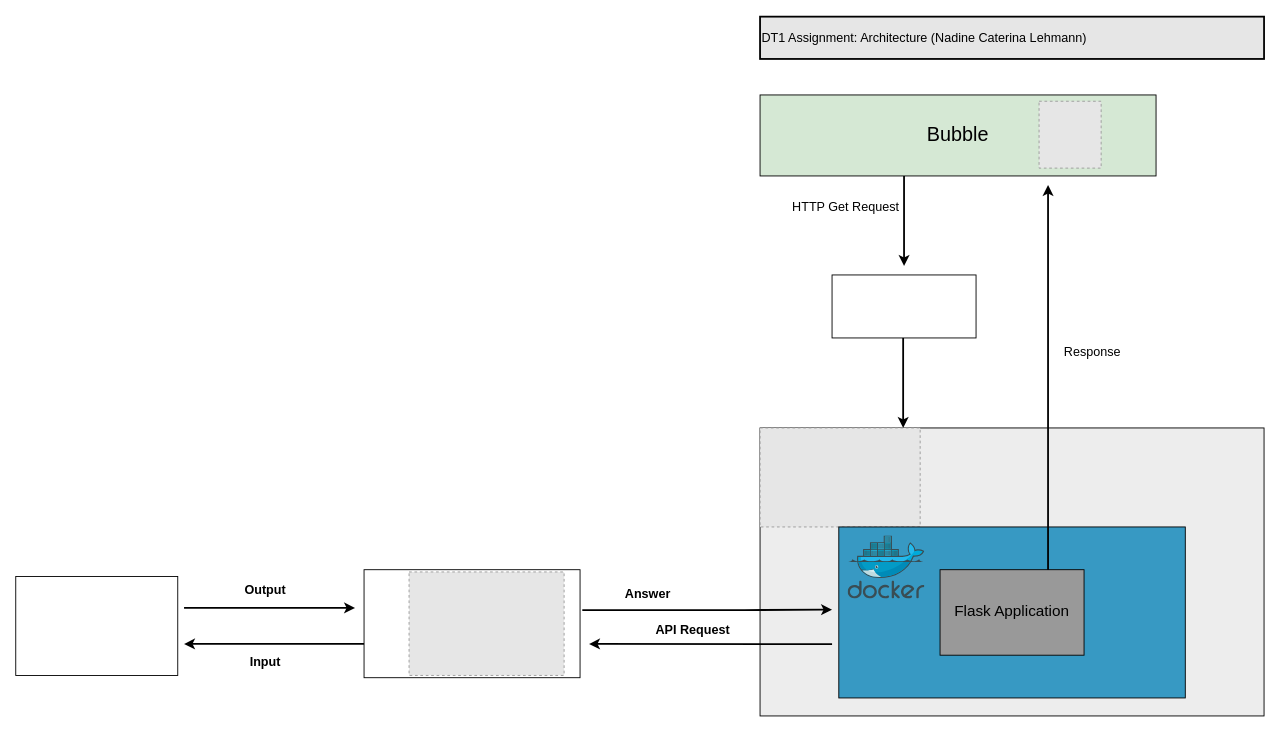
Image size: 1281x732. Some labels were removed from this diagram. Grey dashed boxes stand in for pictures. Each missing label, with the centre of its shape:
Cloud Firewall Rules: [903,306]
GPT2: [96,625]
